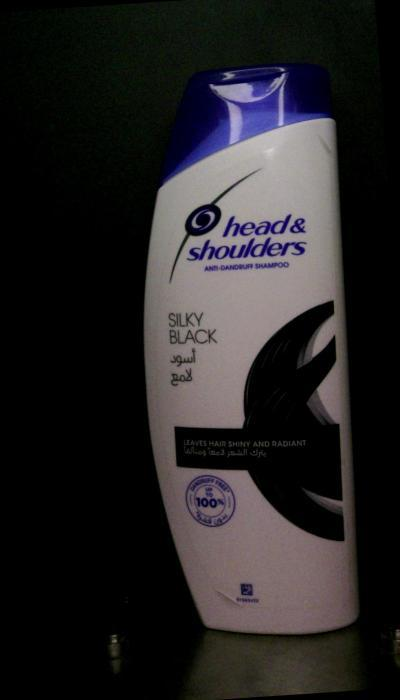adhesion_marg: (208, 576, 250, 613), (309, 131, 337, 168)
